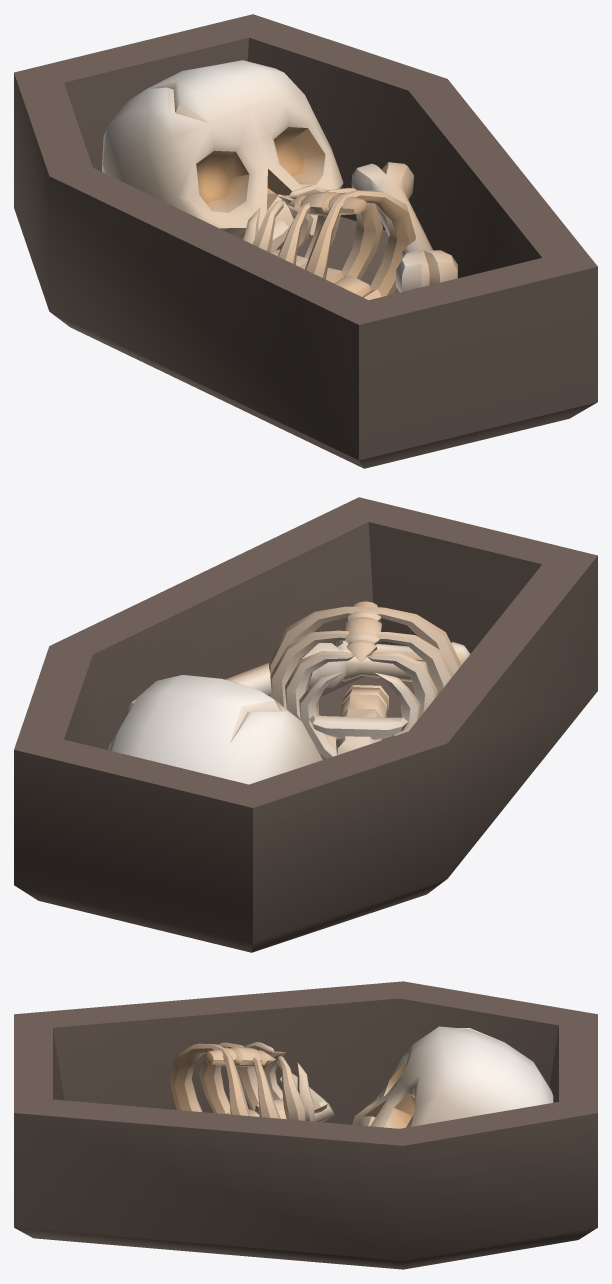
The model's file is coffin_decorated.fbx.
3 views of the same model, one above another, from view 1: azimuth 30°, elevation 25°; view 2: azimuth 150°, elevation 25°; view 3: azimuth 270°, elevation 25° (orthographic). The views are drawn at different scales.
Parts seen in each view (by area): view 1: coffin_decorated; view 2: coffin_decorated; view 3: coffin_decorated.
Boxes of the visible parts, x1=… form: coffin_decorated: x1=14, y1=14, x2=597, y2=468; coffin_decorated: x1=14, y1=497, x2=597, y2=952; coffin_decorated: x1=14, y1=981, x2=597, y2=1269.
Bounding box in the file's own units: 200 × 90.25 × 300.
